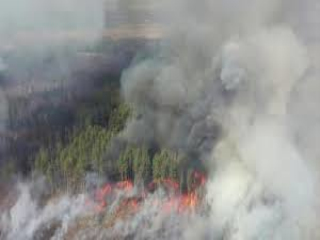fire: (155, 172, 206, 214), (93, 180, 141, 212)
smoke: (204, 5, 317, 234), (108, 53, 244, 163)
